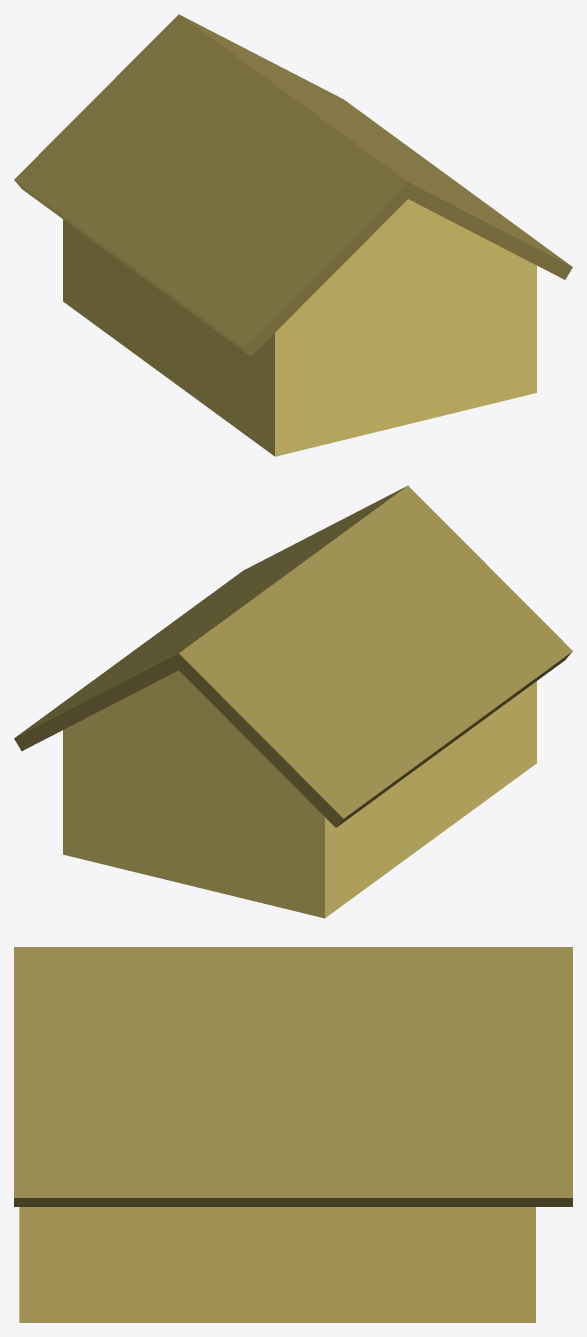
The model's file is result.glb.
3 renders of one model, top to bottom at view 1: azimuth 30°, elevation 25°; view 2: azimuth 150°, elevation 25°; view 3: azimuth 270°, elevation 25°, orthographic. The views are drawn at different scales.
Visible parts, largest first — view 1: bbbc8106-b554-4790-b859-d628753e52a0__undefined (×2), c7ac724a-8ac4-4975-984b-3f38c760cb00__undefined; view 2: bbbc8106-b554-4790-b859-d628753e52a0__undefined (×2), c7ac724a-8ac4-4975-984b-3f38c760cb00__undefined; view 3: bbbc8106-b554-4790-b859-d628753e52a0__undefined, c7ac724a-8ac4-4975-984b-3f38c760cb00__undefined.
Part boxes in pixels (x1,y1,x2,y2): bbbc8106-b554-4790-b859-d628753e52a0__undefined (×2): (14,14,572,356); c7ac724a-8ac4-4975-984b-3f38c760cb00__undefined: (63,199,536,456); bbbc8106-b554-4790-b859-d628753e52a0__undefined (×2): (14,485,572,827); c7ac724a-8ac4-4975-984b-3f38c760cb00__undefined: (63,670,536,918); bbbc8106-b554-4790-b859-d628753e52a0__undefined: (14,947,572,1206); c7ac724a-8ac4-4975-984b-3f38c760cb00__undefined: (19,1207,535,1322).
Size of the model in its own units: 628 by 445 by 757.
